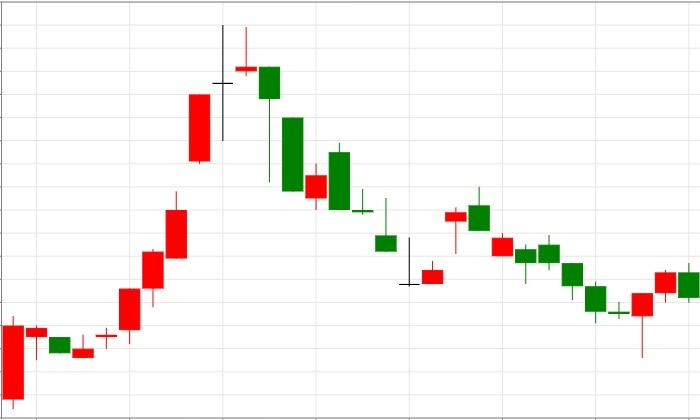hanging_man_fall: (72, 26, 281, 359)
morning_star_rise: (468, 186, 654, 358)
